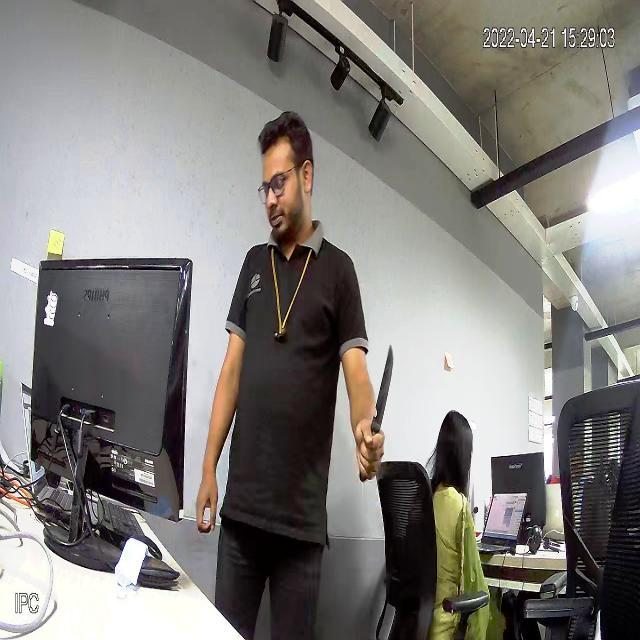Knife: (360, 334, 411, 443)
